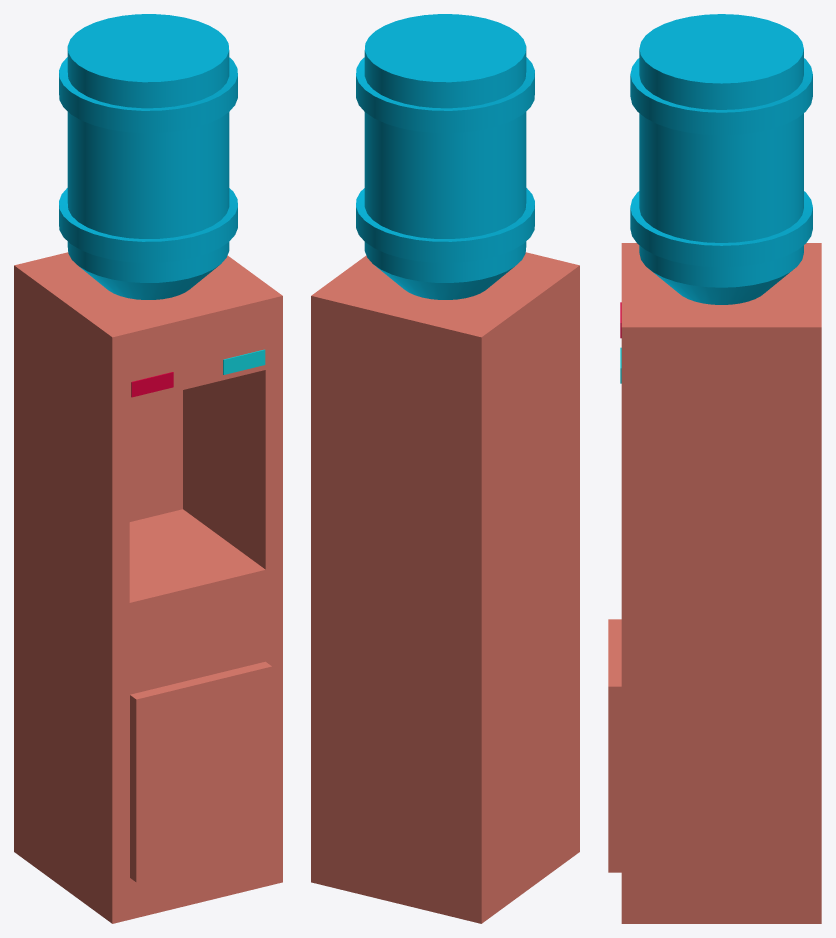
File: water_dispenser.fbx
3 renders of one model, left to right at view 1: azimuth 30°, elevation 25°; view 2: azimuth 150°, elevation 25°; view 3: azimuth 270°, elevation 25°, orthographic.
Visible parts, largest first — view 1: Cube, Cylinder, Plane; view 2: Cube, Cylinder; view 3: Cube, Cylinder.
Part boxes in pixels (x1=…): Cube: x1=14, y1=252, x2=282, y2=923; Cylinder: x1=59, y1=14, x2=237, y2=299; Plane: x1=131, y1=349, x2=265, y2=397; Cube: x1=311, y1=252, x2=579, y2=923; Cylinder: x1=356, y1=14, x2=534, y2=299; Cube: x1=608, y1=243, x2=821, y2=923; Cylinder: x1=630, y1=14, x2=812, y2=304.
Size of the model in its own units: 156 by 715 by 166.
